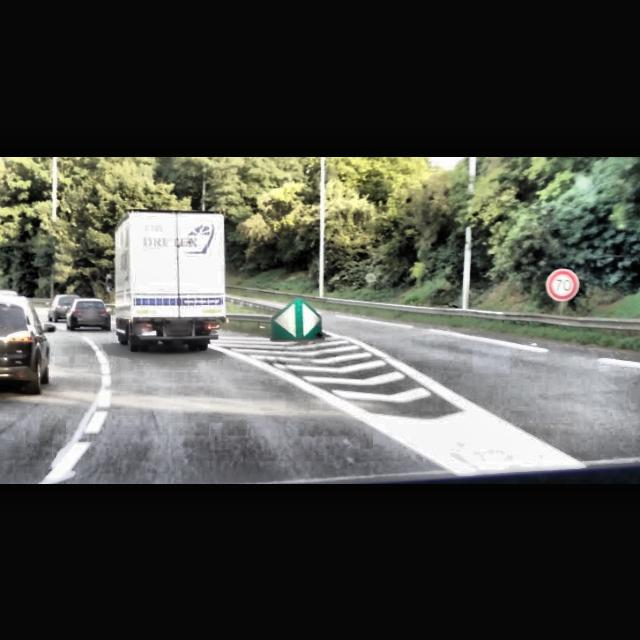speed_70: (549, 269, 577, 299)
